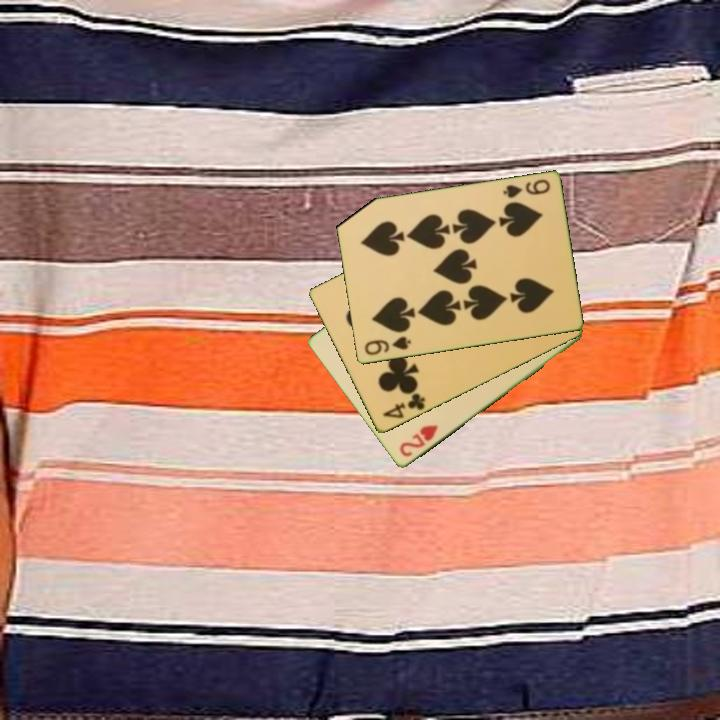2h: (396, 422, 441, 460)
4c: (379, 390, 428, 422)
9s: (361, 333, 413, 359), (499, 176, 553, 201)
